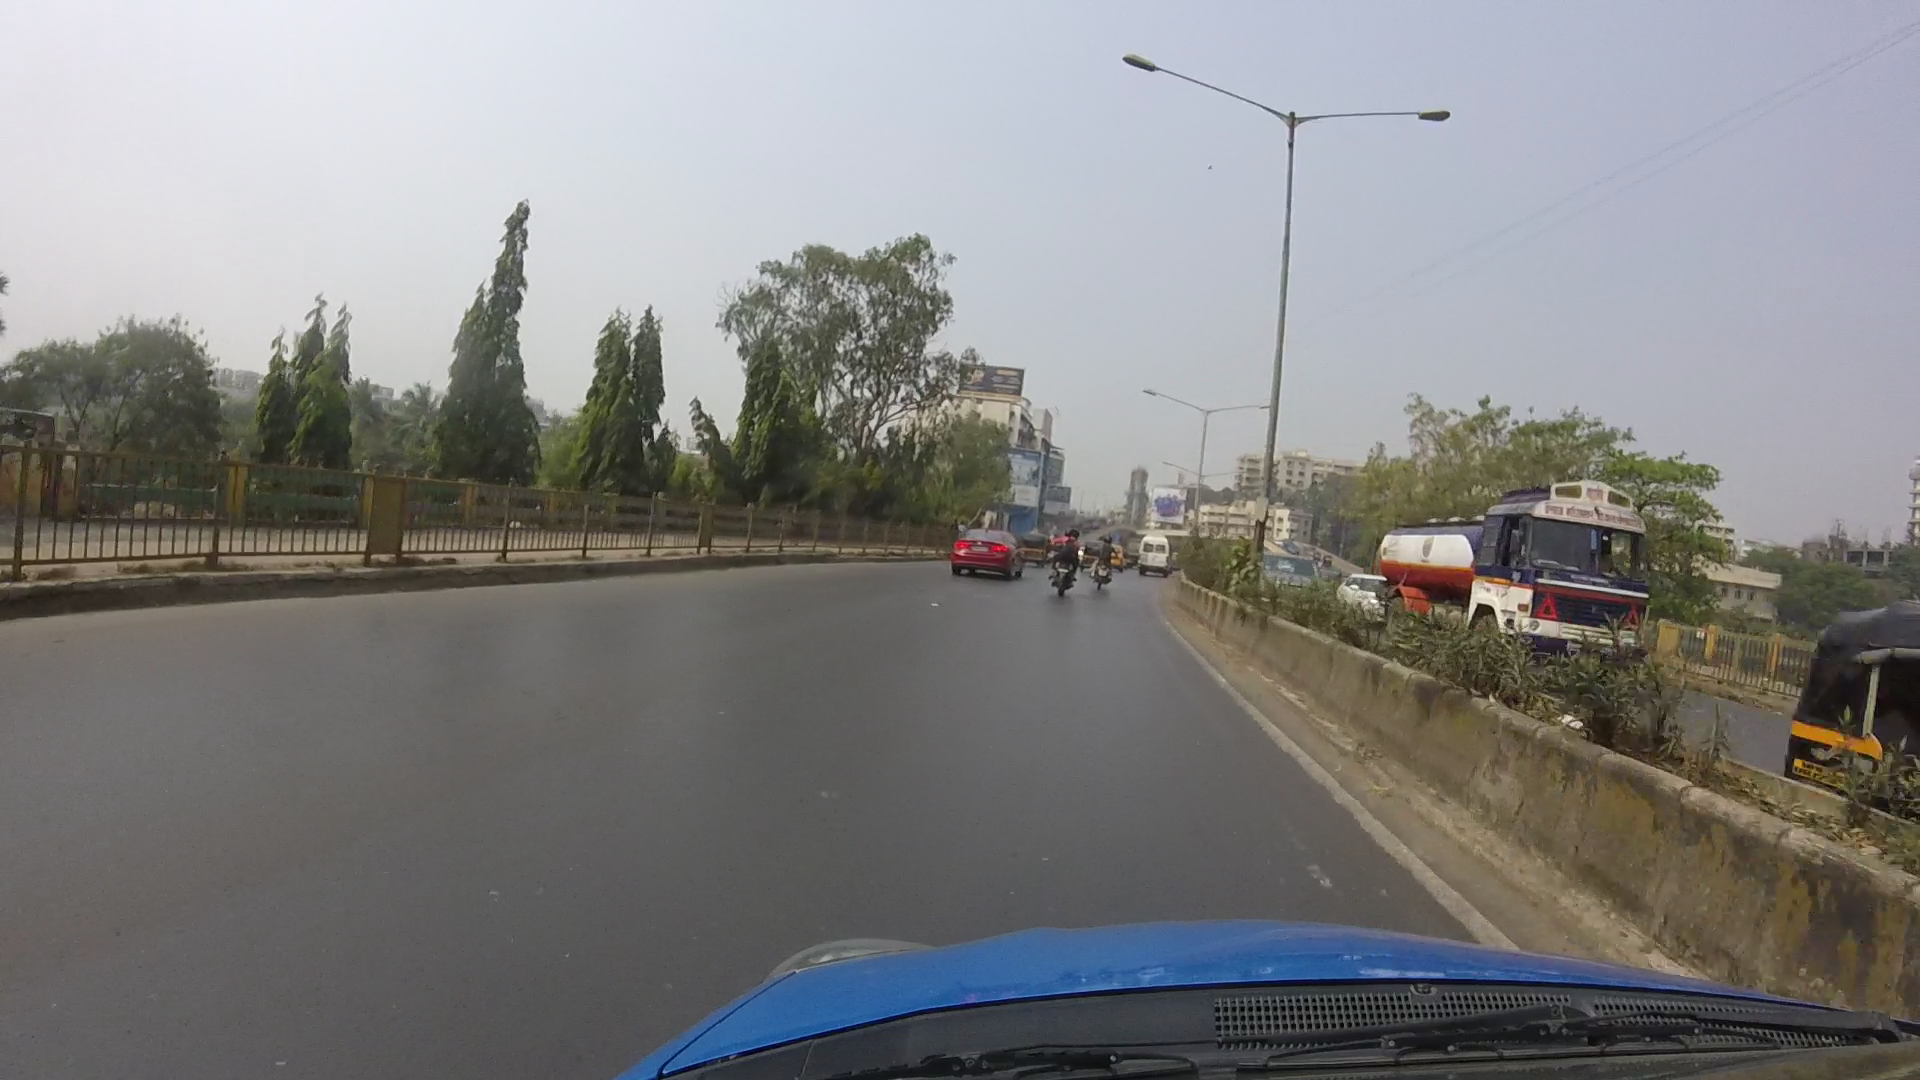bike/scooter: (1047, 524, 1083, 600)
car: (934, 516, 1026, 583)
rickshaw: (1768, 560, 1920, 811)
truck: (1375, 473, 1665, 673)
